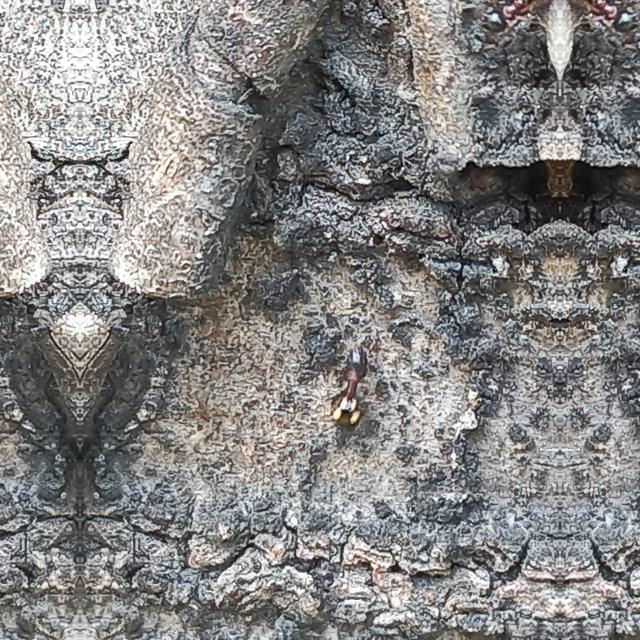Dolichoderus: (320, 326, 382, 436), (472, 0, 550, 42), (568, 0, 640, 42)
